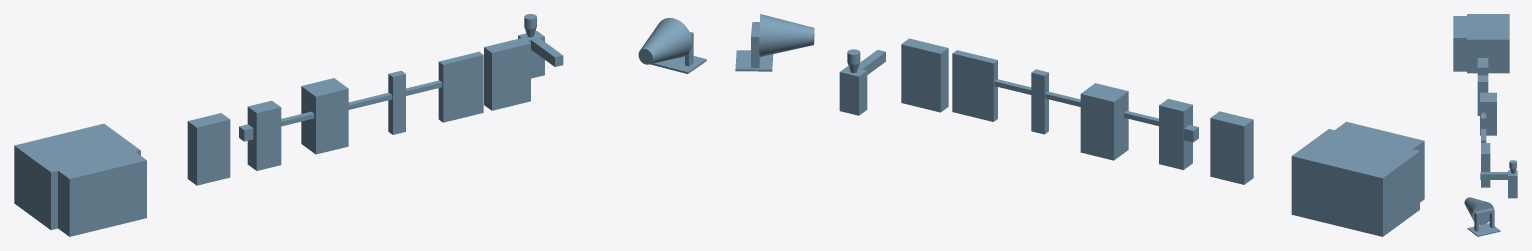
The picture shows the model from 3 angles, left to right: view 1: azimuth 30°, elevation 25°; view 2: azimuth 150°, elevation 25°; view 3: azimuth 270°, elevation 25°; orthographic projection. The views are drawn at different scales.
Size of the model in its own units: 2165 by 180 by 310.
